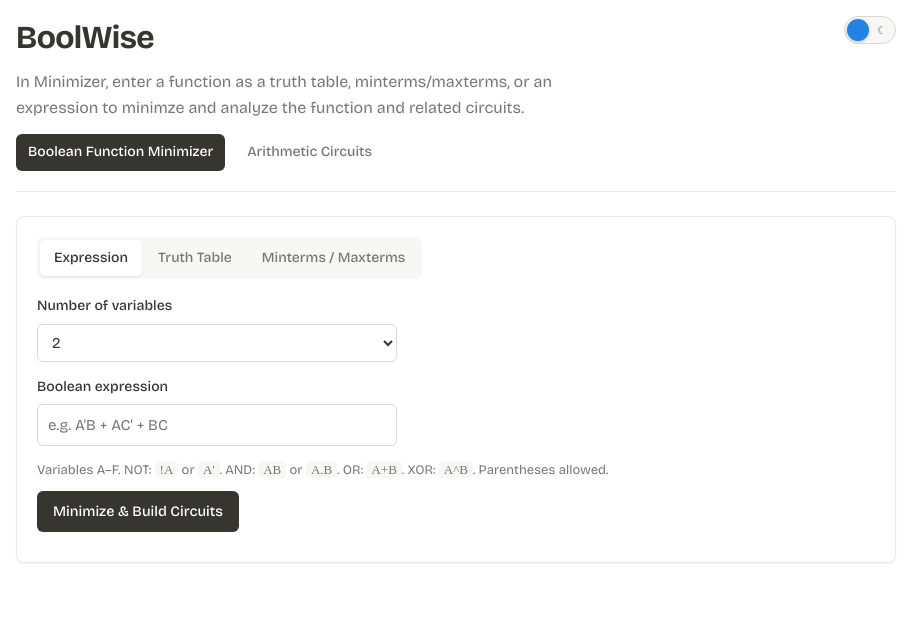
Test: MinimizerPage › shows an error on bad expression input, does not crash
Click the tab "Expression" at (91, 258), box 40,240 -> 142,276
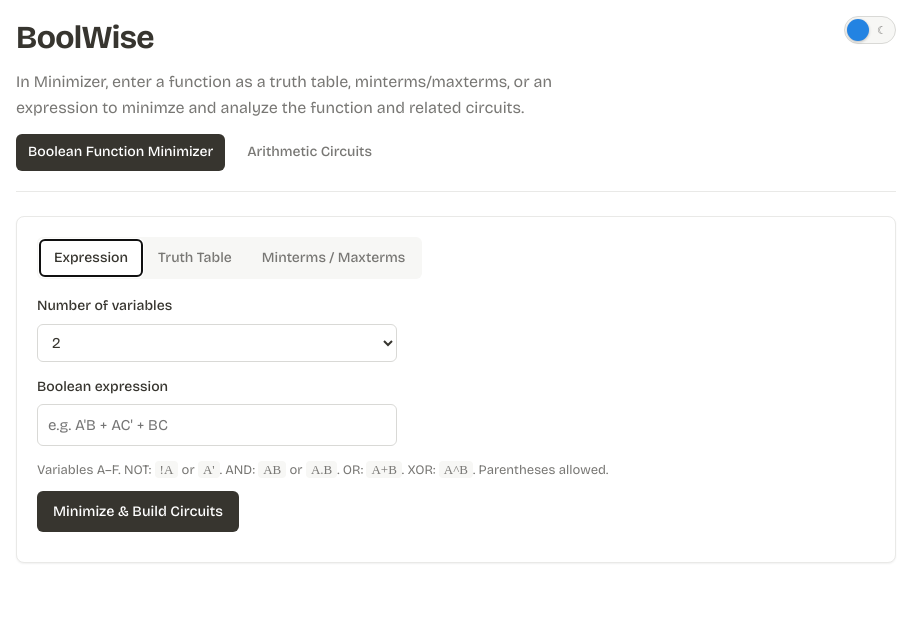
Click the button "Minimize & Build Circuits" at (138, 511), box 37,491 -> 239,532
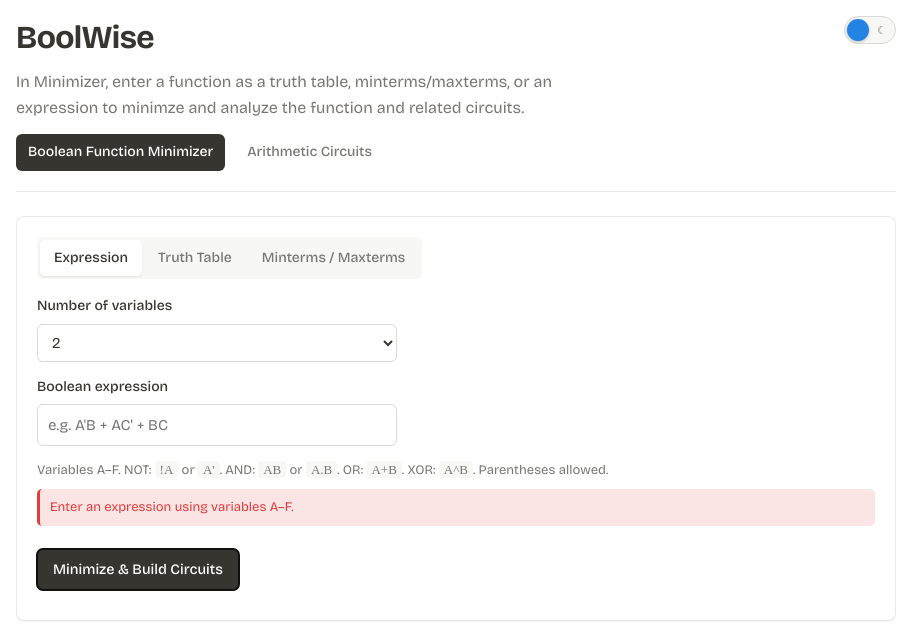
expect the text "Enter an expression using variables A–F." is shown: met, box 37,489 -> 875,526
